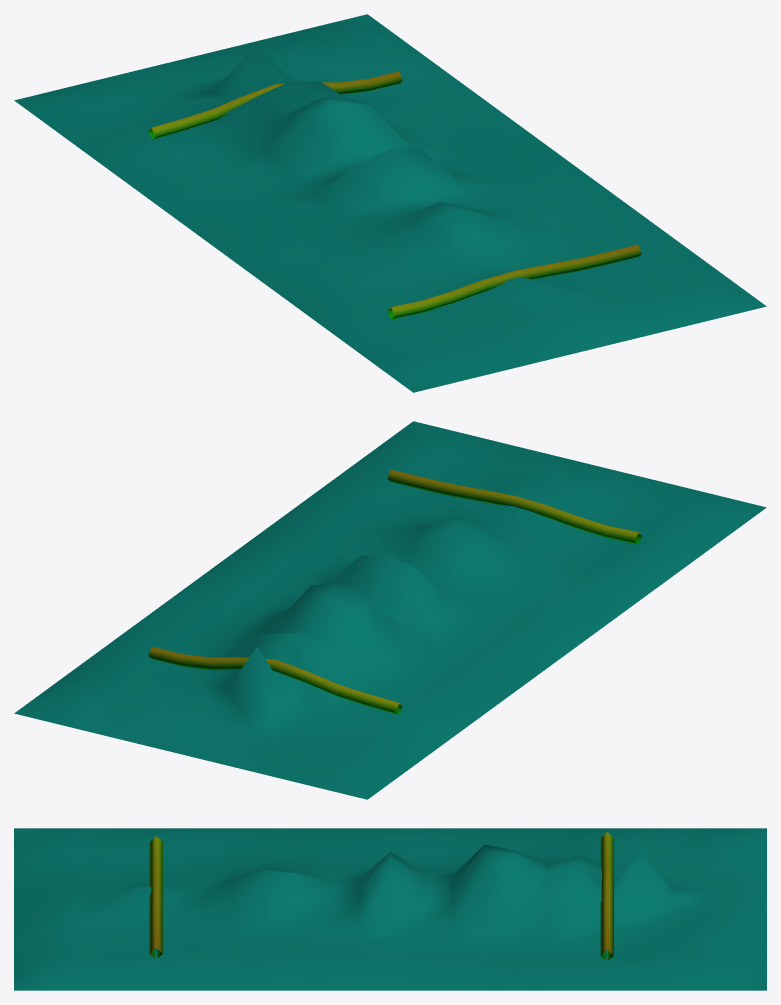
File: shroud_small.glb
The picture shows the model from 3 angles, top to bottom: view 1: azimuth 30°, elevation 25°; view 2: azimuth 150°, elevation 25°; view 3: azimuth 270°, elevation 25°; orthographic projection. The views are drawn at different scales.
Parts seen in each view (by area): view 1: shroud_small; view 2: shroud_small; view 3: shroud_small.
Boxes of the visible parts, <box> form: shroud_small: <box>14,14,766,392</box>; shroud_small: <box>14,421,766,799</box>; shroud_small: <box>14,828,766,990</box>.
Size of what is drawn, in the model's own units: 0.69 by 0.1182 by 1.35.
